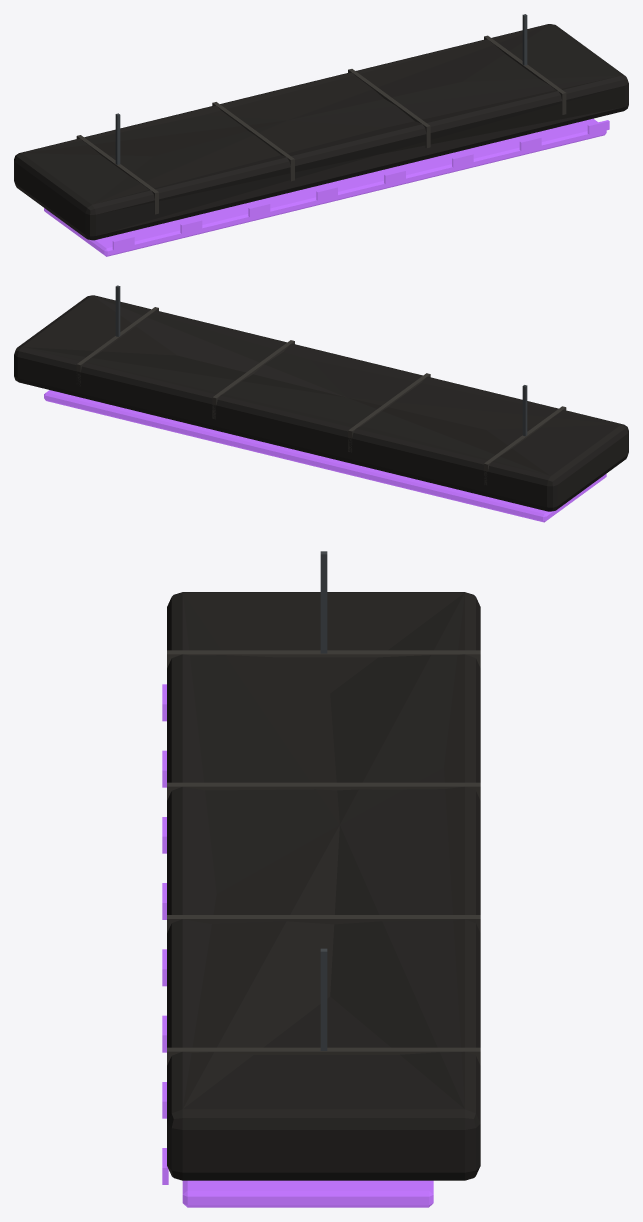
File: grow_lamp_fioletovaya_led_idle.glb
The picture shows the model from 3 angles, top to bottom: view 1: azimuth 30°, elevation 25°; view 2: azimuth 150°, elevation 25°; view 3: azimuth 270°, elevation 25°; orthographic projection. The views are drawn at different scales.
Visible parts, largest first — view 1: grow_lamp_fioletovaya_led_idle; view 2: grow_lamp_fioletovaya_led_idle; view 3: grow_lamp_fioletovaya_led_idle.
Boxes of the visible parts, x1=… form: grow_lamp_fioletovaya_led_idle: x1=14, y1=14, x2=628, y2=256; grow_lamp_fioletovaya_led_idle: x1=14, y1=285, x2=628, y2=522; grow_lamp_fioletovaya_led_idle: x1=162, y1=551, x2=480, y2=1207.
Size of the model in its own units: 0.8 by 0.15 by 0.203.
2 materials, 2 textured.
